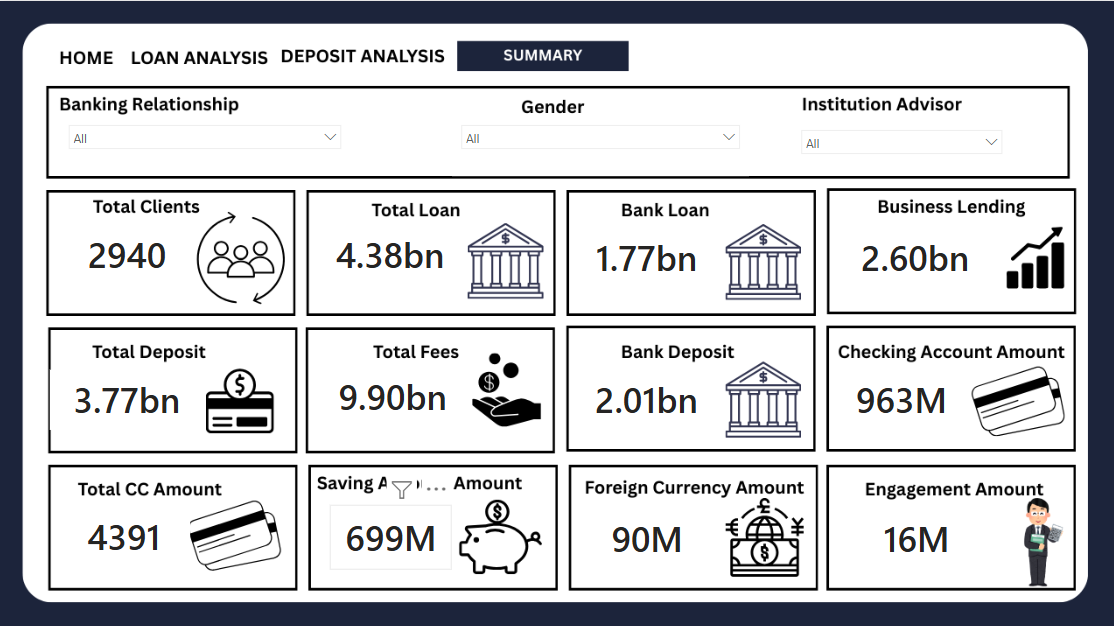

This screenshot's page, from the dashboard's own definition file:
{"tool":"powerbi","page":{"name":"Summary","canvas":[1280,720],"ordinal":3},"visuals":[{"type":"card","fields":{"Values":["banking customer.Clients count"]},"box":[78.6,255.7,142.9,68.6],"z":0},{"type":"card","fields":{"Values":["banking customer.Total Loan"]},"box":[362.9,255.7,175.7,68.6],"z":1000},{"type":"card","fields":{"Values":["Sum(banking customer.Bank Loans)"]},"box":[658.6,261.4,170,62.9],"z":2000},{"type":"card","fields":{"Values":["Sum(banking customer.Business Lending)"]},"box":[960,261.4,181.4,62.9],"z":3000},{"type":"card","fields":{"Values":["banking customer.Total Deposit"]},"box":[61.4,421.4,177.1,68.6],"z":4000},{"type":"card","fields":{"Values":["banking customer.Total Fees"]},"box":[362.9,421.4,181.4,61.4],"z":5000},{"type":"card","fields":{"Values":["Sum(banking customer.Bank Deposits)"]},"box":[658.6,418.6,170,72.9],"z":6000},{"type":"card","fields":{"Values":["Sum(Clients - Banking.Checking Accounts)"]},"box":[960,422.9,150,64.3],"z":7000},{"type":"card","fields":{"Values":["banking customer.Total CC amount"]},"box":[71.4,580,150,64.3],"z":8000},{"type":"card","fields":{"Values":["Sum(Clients - Banking.Saving Accounts)"]},"box":[381.4,575.7,140,74.3],"z":9000},{"type":"card","fields":{"Values":["Clients - Banking.Foreign currency amount"]},"box":[670,580,148.6,67.1],"z":10000},{"type":"card","fields":{"Values":["Clients - Banking.Engagement amt"]},"box":[977.1,577.1,150,74.3],"z":11000},{"type":"slicer","title":"Banking Relationship","fields":{"Values":["banking customer.BRId"]},"box":[72.9,131.4,331.4,62.9],"z":12000},{"type":"slicer","title":"Banking Relationship","fields":{"Values":["banking customer.GenderId"]},"box":[521.4,131.4,338.6,68.6],"z":13000},{"type":"slicer","title":"Banking Relationship","fields":{"Values":["banking customer.IAId"]},"box":[910,137.1,250,57.1],"z":14000}]}

Visuals, with their boxes in screenshot pixels (x1, y1, x2, y2), scaled from the page's 1280x720 canvas onto the 1114x626 screenshot:
card - banking customer.Clients count: box=[68, 222, 193, 282]
card - banking customer.Total Loan: box=[316, 222, 469, 282]
card - Sum(banking customer.Bank Loans): box=[573, 227, 721, 282]
card - Sum(banking customer.Business Lending): box=[836, 227, 993, 282]
card - banking customer.Total Deposit: box=[53, 366, 208, 426]
card - banking customer.Total Fees: box=[316, 366, 474, 420]
card - Sum(banking customer.Bank Deposits): box=[573, 364, 721, 427]
card - Sum(Clients - Banking.Checking Accounts): box=[836, 368, 966, 424]
card - banking customer.Total CC amount: box=[62, 504, 193, 560]
card - Sum(Clients - Banking.Saving Accounts): box=[332, 501, 454, 565]
card - Clients - Banking.Foreign currency amount: box=[583, 504, 712, 563]
card - Clients - Banking.Engagement amt: box=[850, 502, 981, 566]
"Banking Relationship" slicer: box=[63, 114, 352, 169]
"Banking Relationship" slicer: box=[454, 114, 748, 174]
"Banking Relationship" slicer: box=[792, 119, 1010, 169]
